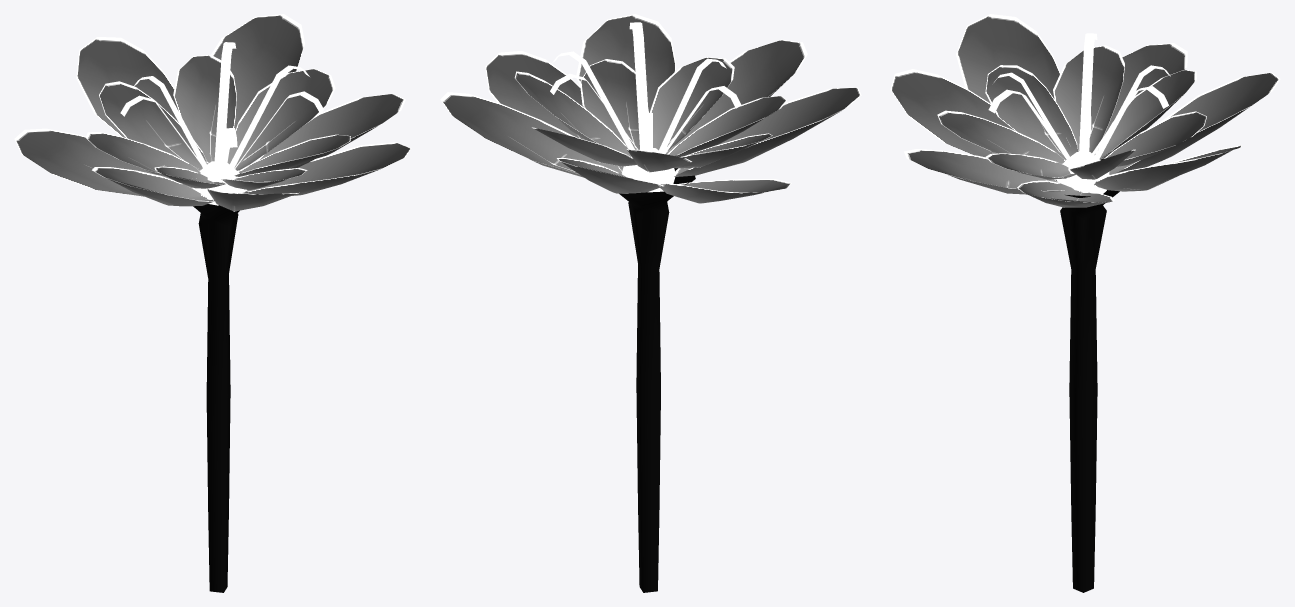
Rendered from Fleur.fbx.
3 renders of one model, left to right at view 1: azimuth 30°, elevation 25°; view 2: azimuth 150°, elevation 25°; view 3: azimuth 270°, elevation 25°, orthographic. The views are drawn at different scales.
Parts seen in each view (by area): view 1: NurbsPath; view 2: NurbsPath; view 3: NurbsPath.
Part boxes in pixels (box(x1,y1,x2,y2)): NurbsPath: box(14, 14, 411, 592); NurbsPath: box(440, 14, 861, 592); NurbsPath: box(890, 14, 1280, 592).
Size of the model in its own units: 46.24 by 67.99 by 46.08.
